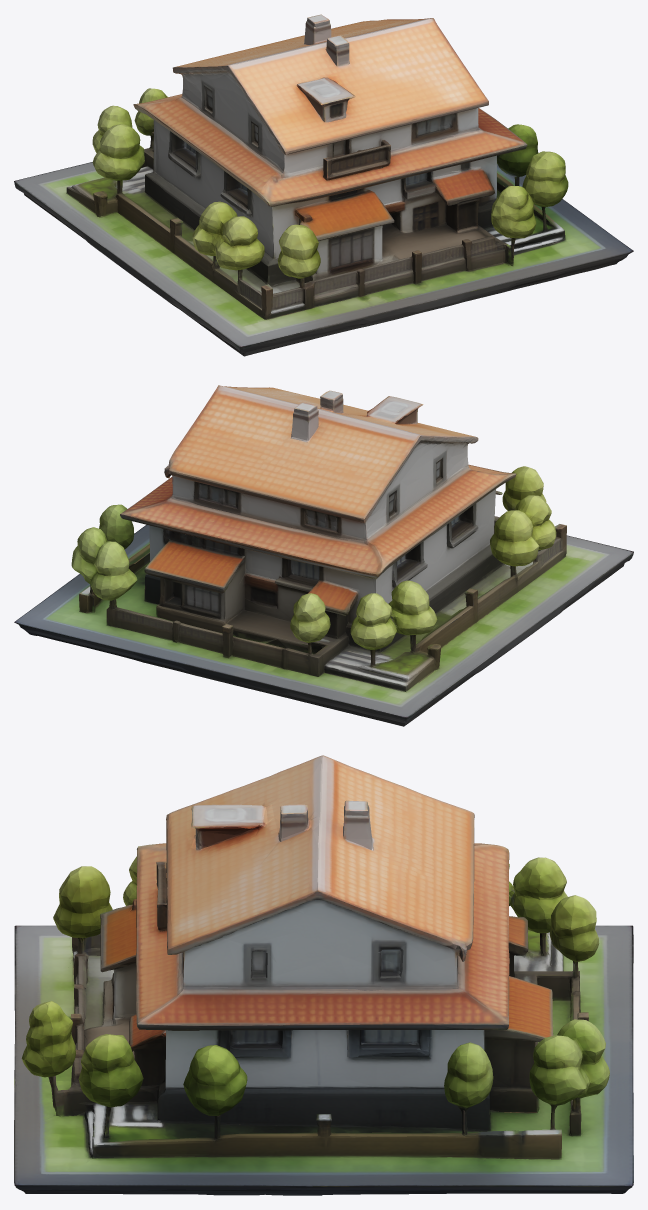
Rendered from house model.glb.
3 renders of one model, top to bottom at view 1: azimuth 30°, elevation 25°; view 2: azimuth 150°, elevation 25°; view 3: azimuth 270°, elevation 25°, orthographic. The views are drawn at different scales.
Visible parts, largest first — view 1: world; view 2: world; view 3: world.
Part boxes in pixels (<box>): world: <box>14,14,633,356</box>; world: <box>14,385,633,726</box>; world: <box>14,755,633,1195</box>.
Bounding box in the file's own units: 0.9983 × 0.489 × 1.
1 material, 1 textured.
